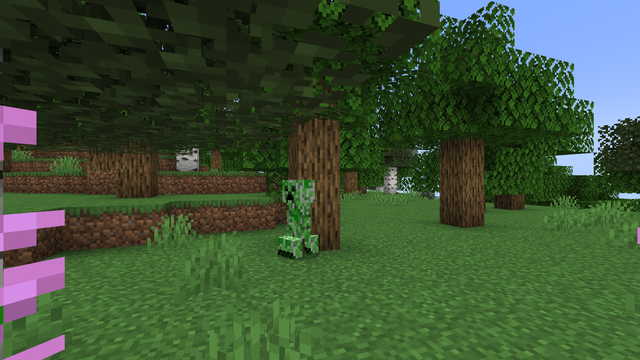creepers: (282, 176, 315, 258)
